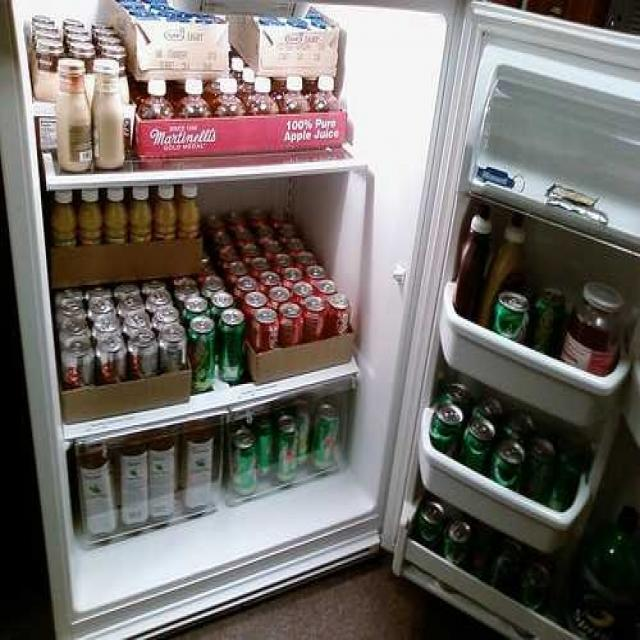refrigerator: (1, 0, 639, 623)
